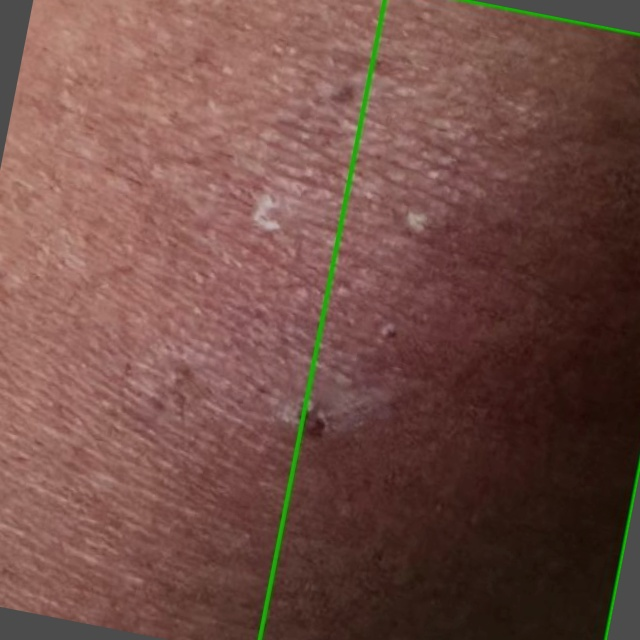Tinea Corporis: (258, 0, 639, 639)
